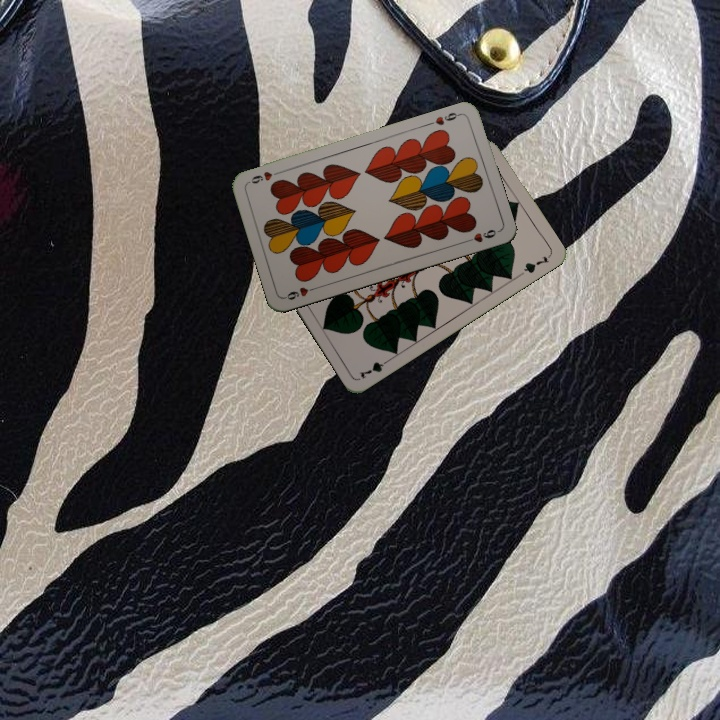G7: (355, 354, 393, 381)
H9: (281, 282, 321, 302), (425, 108, 464, 128)
